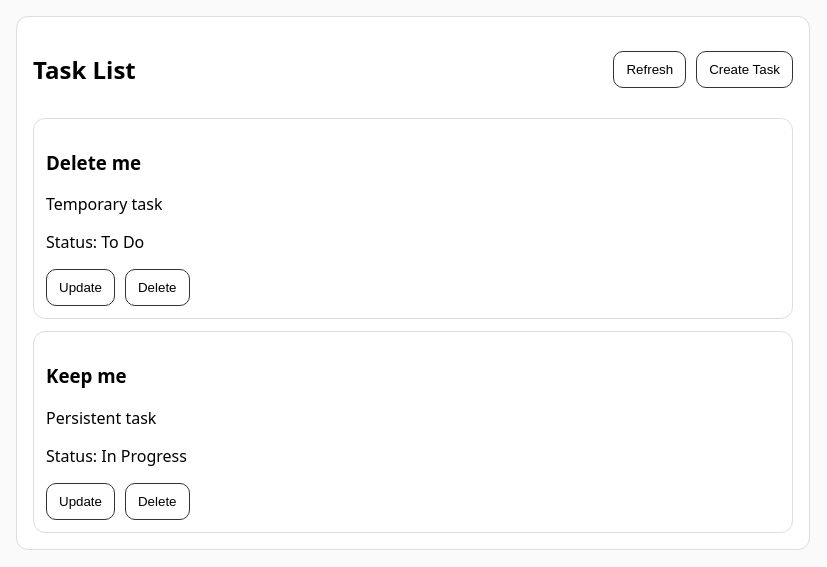
Test: TaskListPage › deletes a task from the list
Check: the heading "Delete me" is shown, box [46,150,141,174]
Click the button "Delete" below "To Do". click: (157, 288)
box: [125,269,190,306]
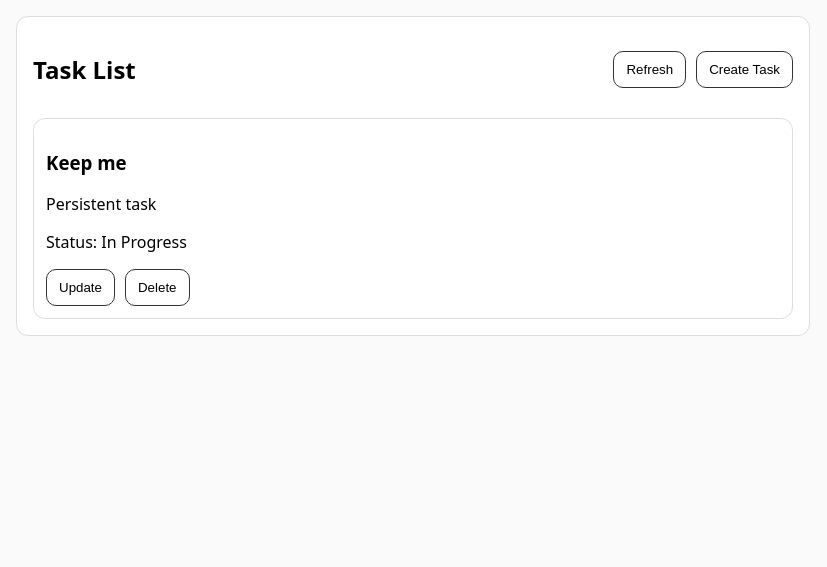
Check: the heading "Keep me" is shown, box [46,150,127,174]
Check: the heading "Delete me" is gone
